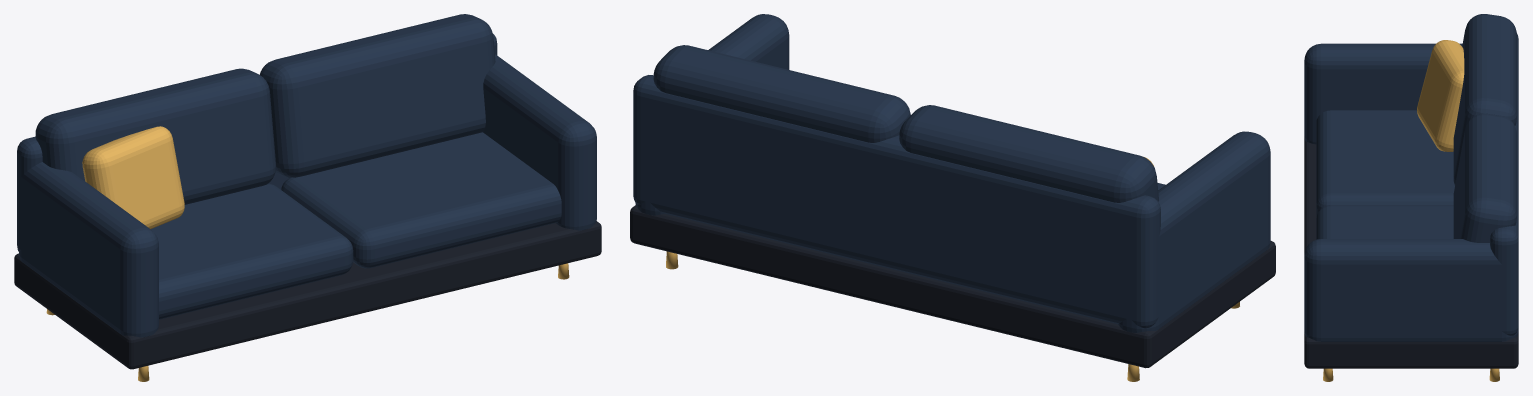
File: sofa.glb
3 renders of one model, left to right at view 1: azimuth 30°, elevation 25°; view 2: azimuth 150°, elevation 25°; view 3: azimuth 270°, elevation 25°, orthographic. The views are drawn at different scales.
Visible parts, largest first — view 1: sofa; view 2: sofa; view 3: sofa.
Part boxes in pixels (x1,y1,x2,y2): sofa: (14, 14, 601, 381); sofa: (630, 14, 1275, 381); sofa: (1304, 14, 1518, 381).
Size of the model in its own units: 2.1 by 0.8325 by 0.9.
